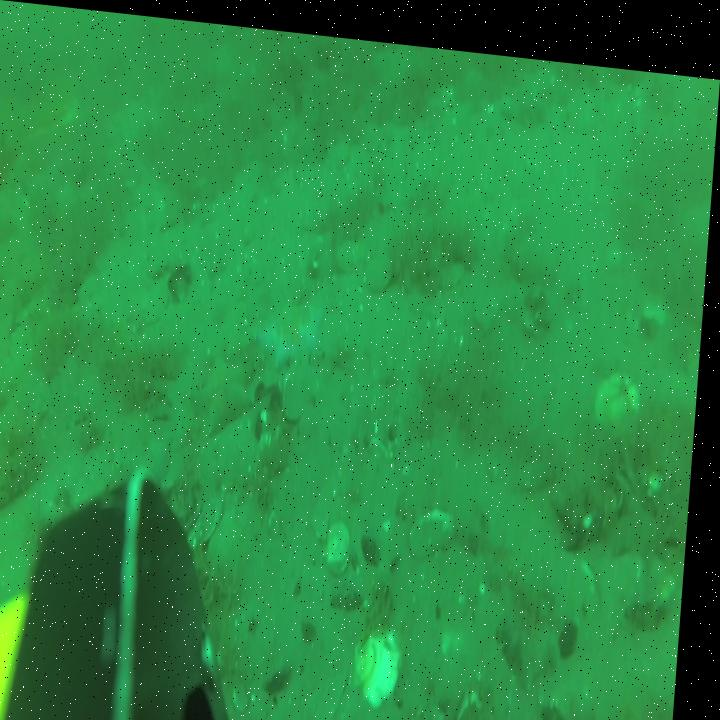scallop: (362, 616, 412, 700), (600, 358, 647, 414), (415, 500, 459, 548), (329, 514, 362, 563), (369, 242, 395, 284), (339, 230, 369, 260)
starfish: (197, 342, 263, 430), (263, 287, 333, 364)
